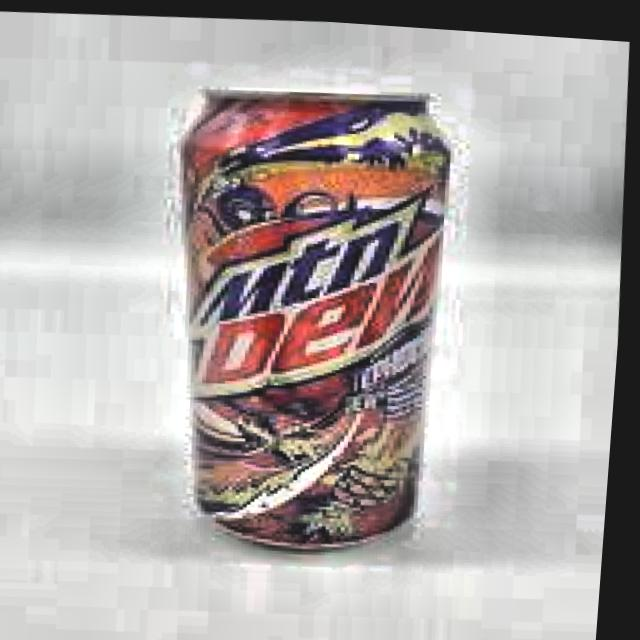Cans: (110, 46, 505, 564)
